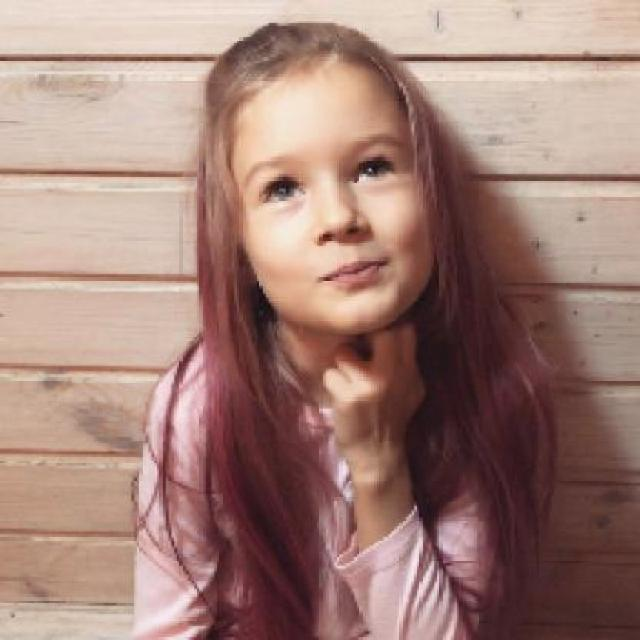child: (131, 20, 560, 637)
